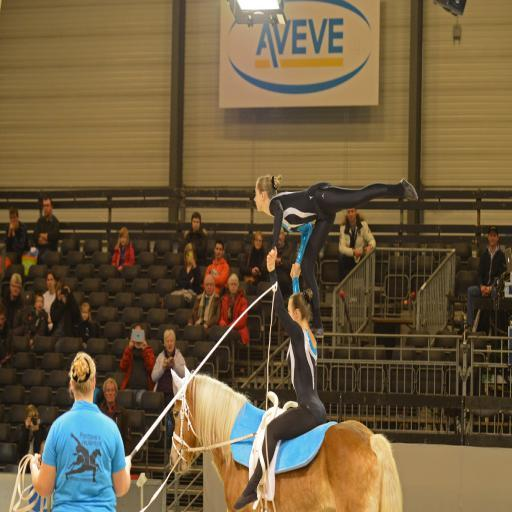Horse: (171, 370, 404, 512)
